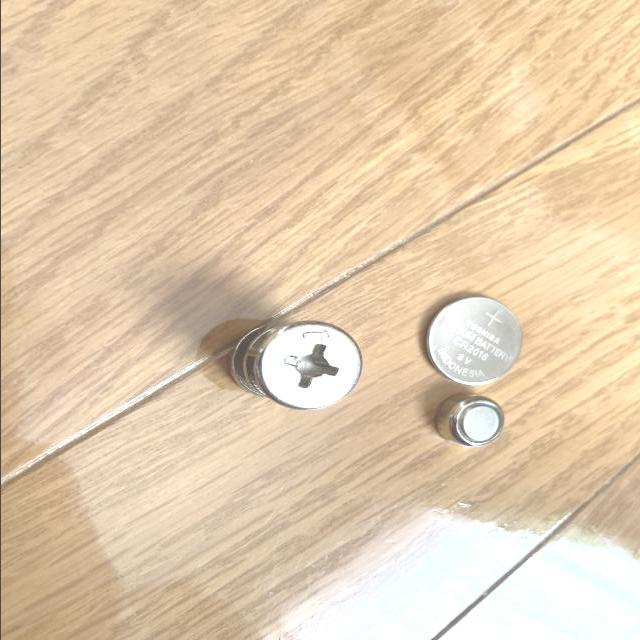COIN: (426, 296, 522, 384), (434, 392, 502, 447)
